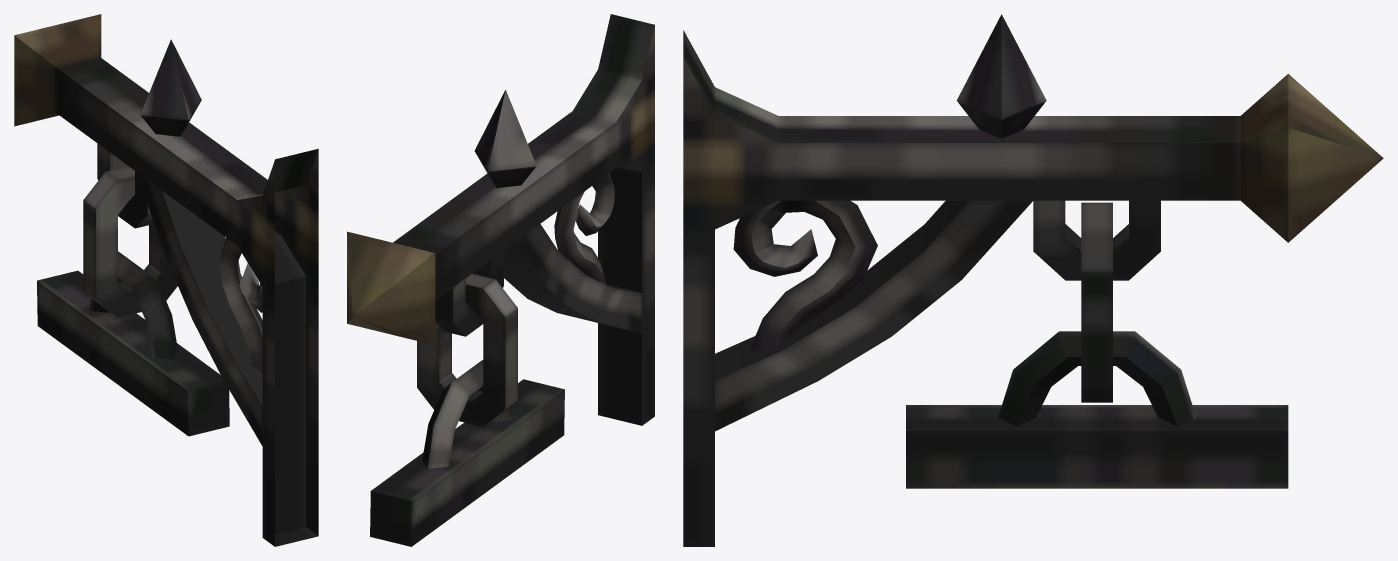
The model's file is EnvMdrMD_Castle_A_Flag_NoFlag.FBX.
The picture shows the model from 3 angles, left to right: view 1: azimuth 30°, elevation 25°; view 2: azimuth 150°, elevation 25°; view 3: azimuth 270°, elevation 25°; orthographic projection. The views are drawn at different scales.
Visible parts, largest first — view 1: EnvMdrMD_Castle_A_Flag_NoFlag; view 2: EnvMdrMD_Castle_A_Flag_NoFlag; view 3: EnvMdrMD_Castle_A_Flag_NoFlag.
Boxes of the visible parts, x1=… form: EnvMdrMD_Castle_A_Flag_NoFlag: x1=14, y1=14, x2=318, y2=546; EnvMdrMD_Castle_A_Flag_NoFlag: x1=347, y1=14, x2=654, y2=546; EnvMdrMD_Castle_A_Flag_NoFlag: x1=683, y1=14, x2=1383, y2=546.
Size of the model in its own units: 20 by 90 by 110.
Materials: 1 (1 with a texture image).
